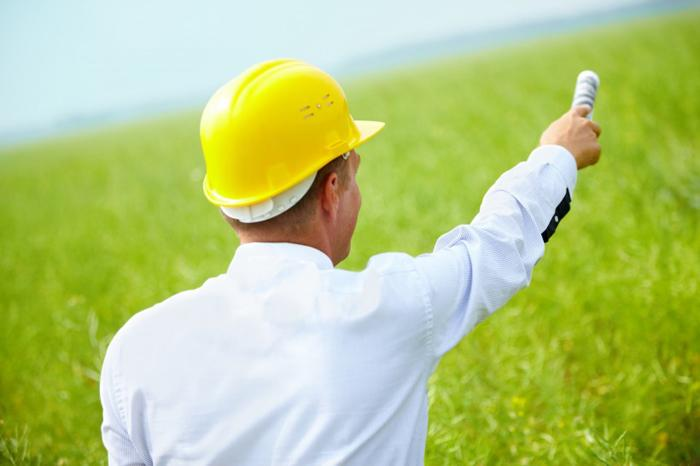helmet: (200, 58, 386, 228)
